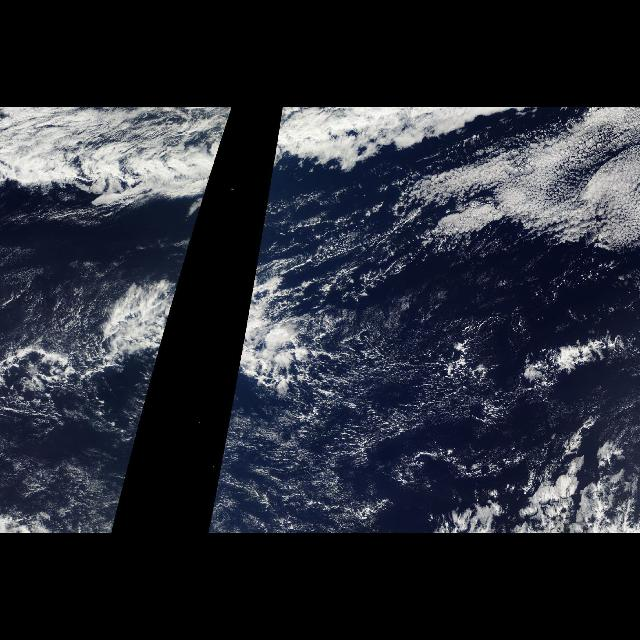Sugar: (208, 319, 500, 531), (404, 140, 640, 270), (29, 318, 169, 528)
